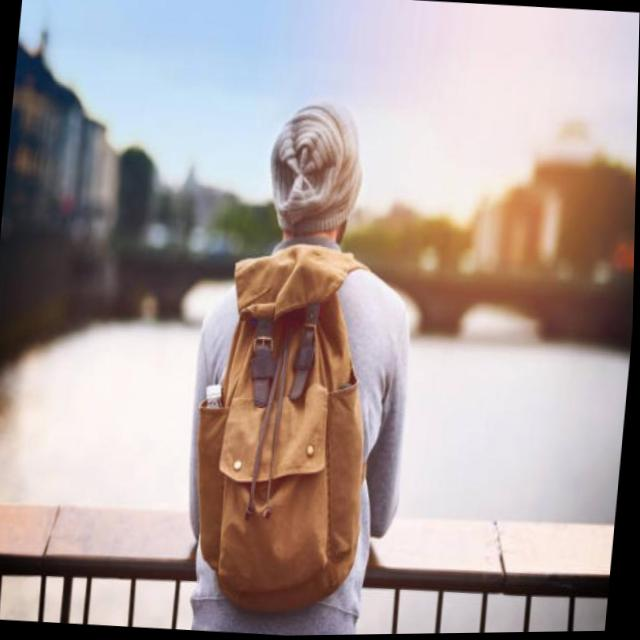no helmet: (248, 86, 380, 265)
